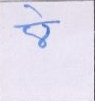e_matra: (24, 4, 45, 20)
